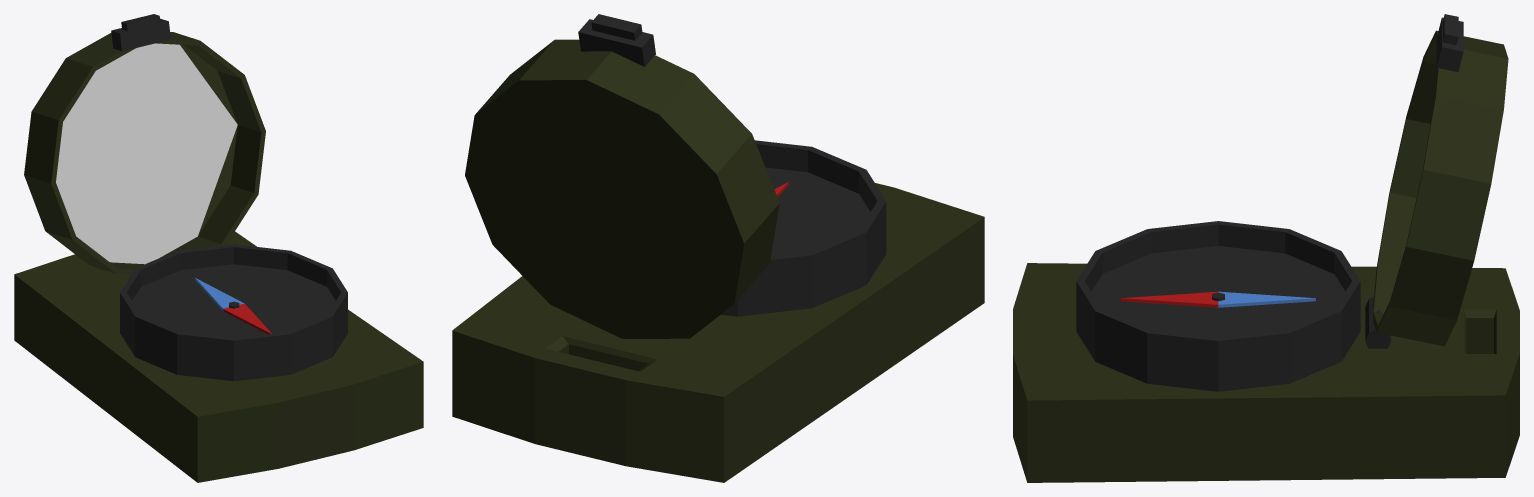
Rendered from Compass_Opened_mat.fbx.
The picture shows the model from 3 angles, left to right: view 1: azimuth 30°, elevation 25°; view 2: azimuth 150°, elevation 25°; view 3: azimuth 270°, elevation 25°; orthographic projection. The views are drawn at different scales.
Parts seen in each view (by area): view 1: Compass_Opened_mat; view 2: Compass_Opened_mat; view 3: Compass_Opened_mat.
Part boxes in pixels (x1,y1,x2,y2): Compass_Opened_mat: (14, 14, 423, 482); Compass_Opened_mat: (452, 14, 984, 482); Compass_Opened_mat: (1013, 14, 1519, 482).
Size of the model in its own units: 8.04 by 10.65 by 12.53.
